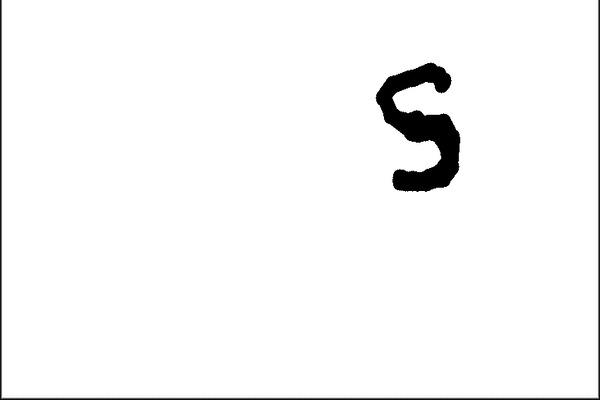S: (368, 60, 478, 196)
